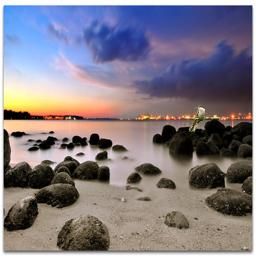Cuckoo: (189, 105, 205, 132)
